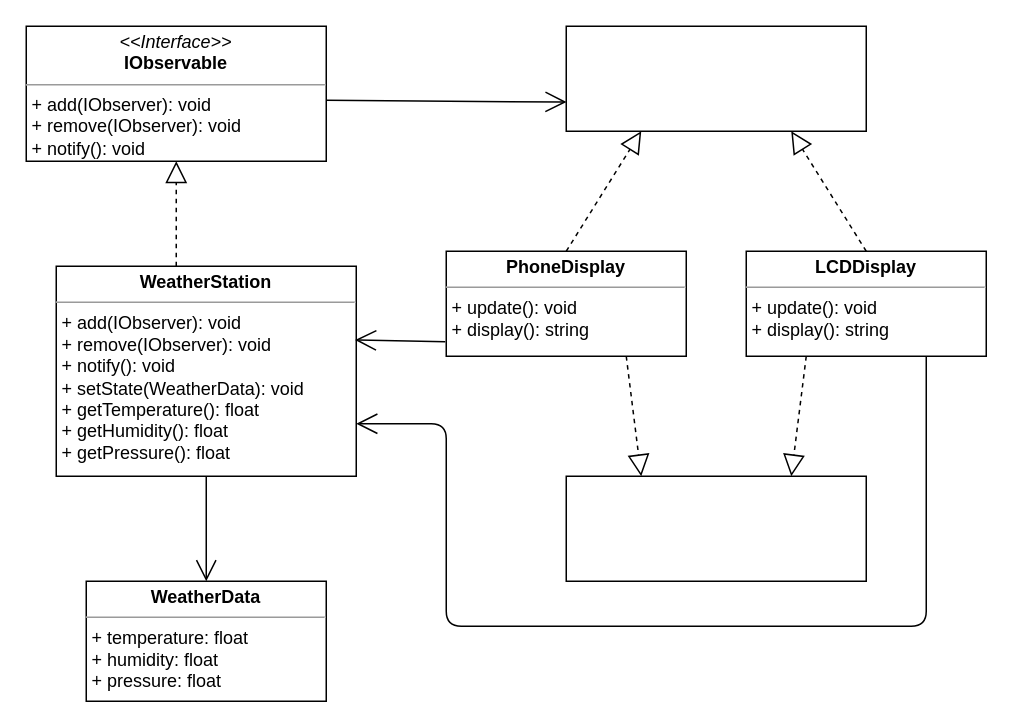
Image size: 1013x728. Some labels were removed from this diagram. The centre of each missing label's shape, as x and y in pixels:
"<<Interface>> IDisplay + display(): string" belongs at (715,528).
"<<Interface>> IObserver + update(): void" belongs at (715,78).
